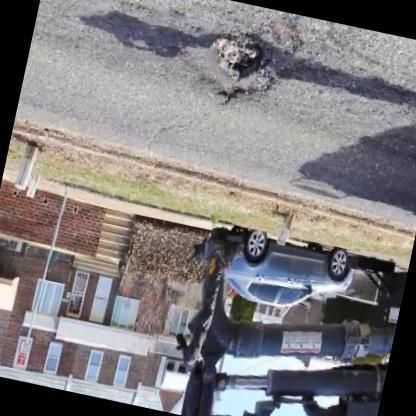pothole: (214, 22, 277, 104)
